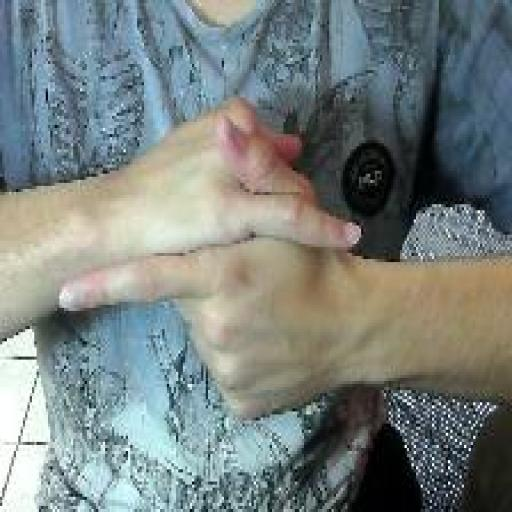U -hare-: (57, 92, 366, 426)
